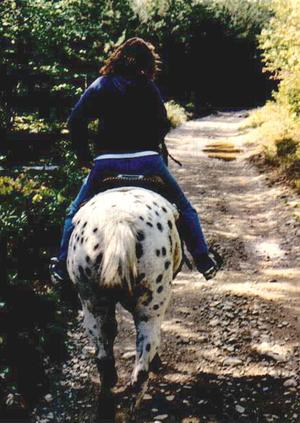person: (49, 35, 221, 290)
